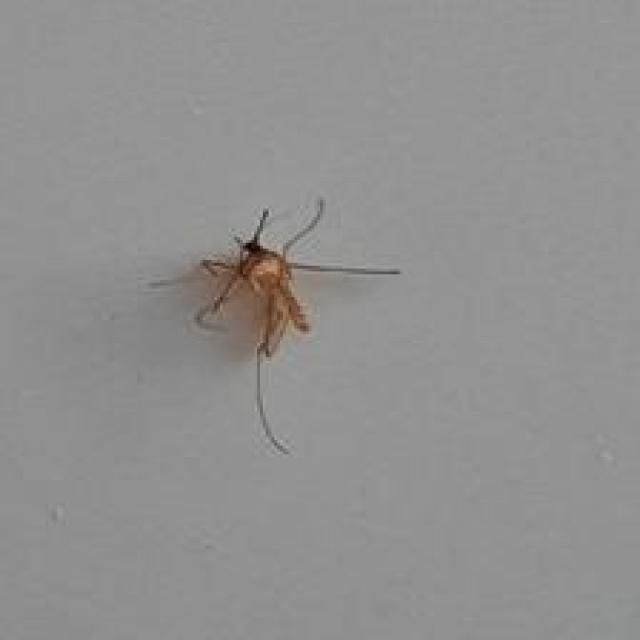Culex: (190, 195, 401, 454)
